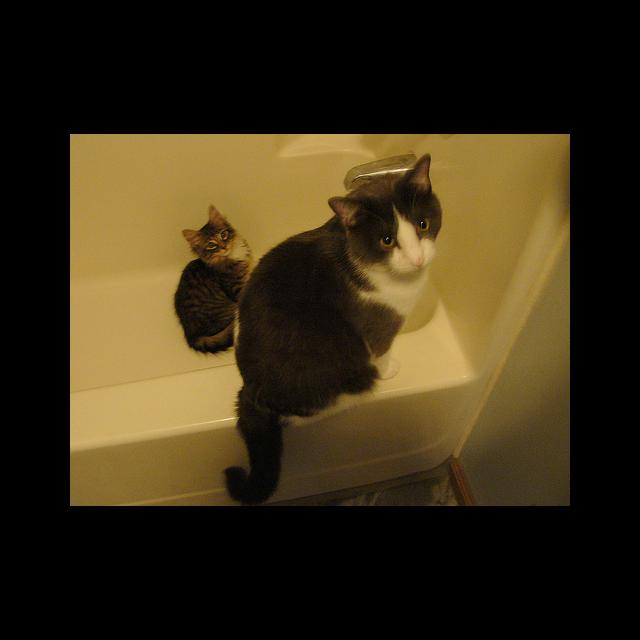animals: (328, 153, 431, 265)
